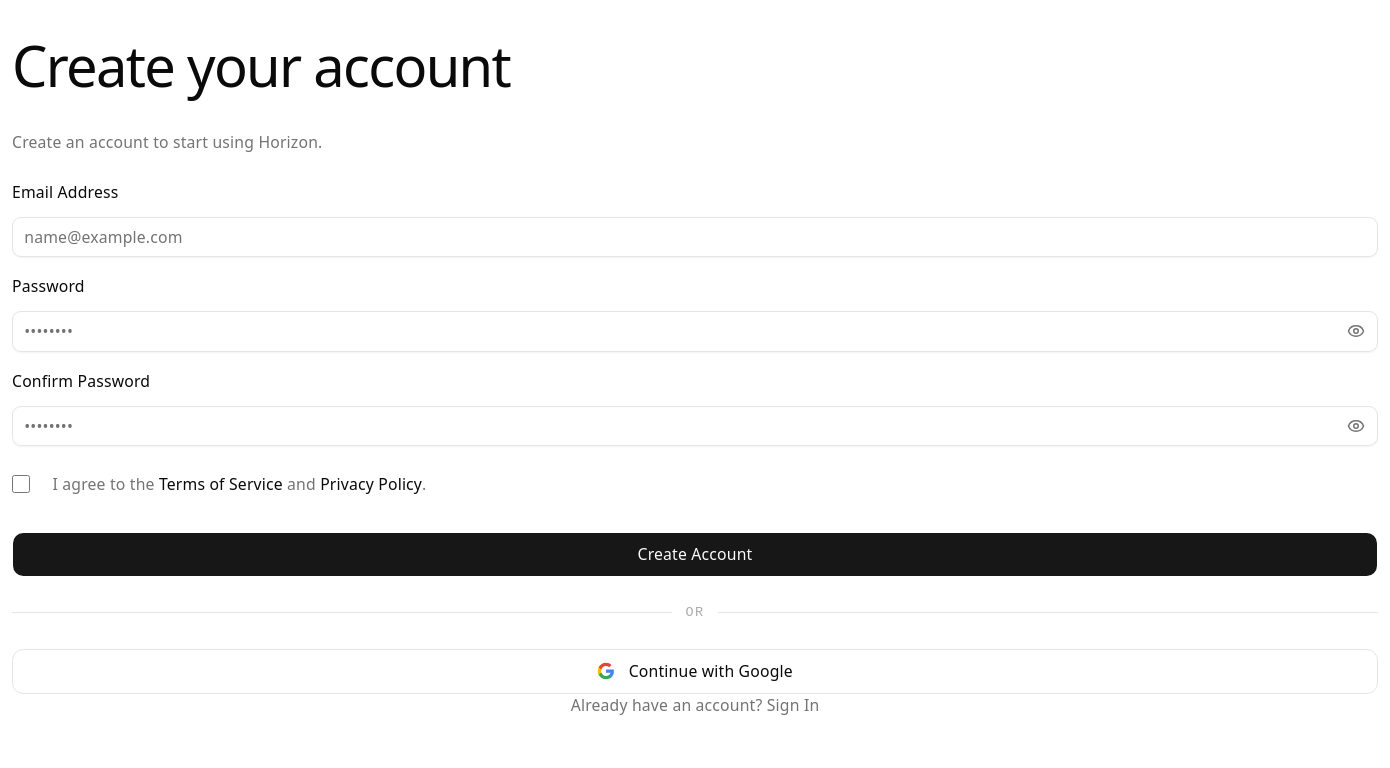
Test: RegisterForm › shows validation error when passwords do not match
Type "test@example.com" into the field with placeholder "name@example.com" at [695, 237], box x1=12 y1=217 x2=1378 y2=257
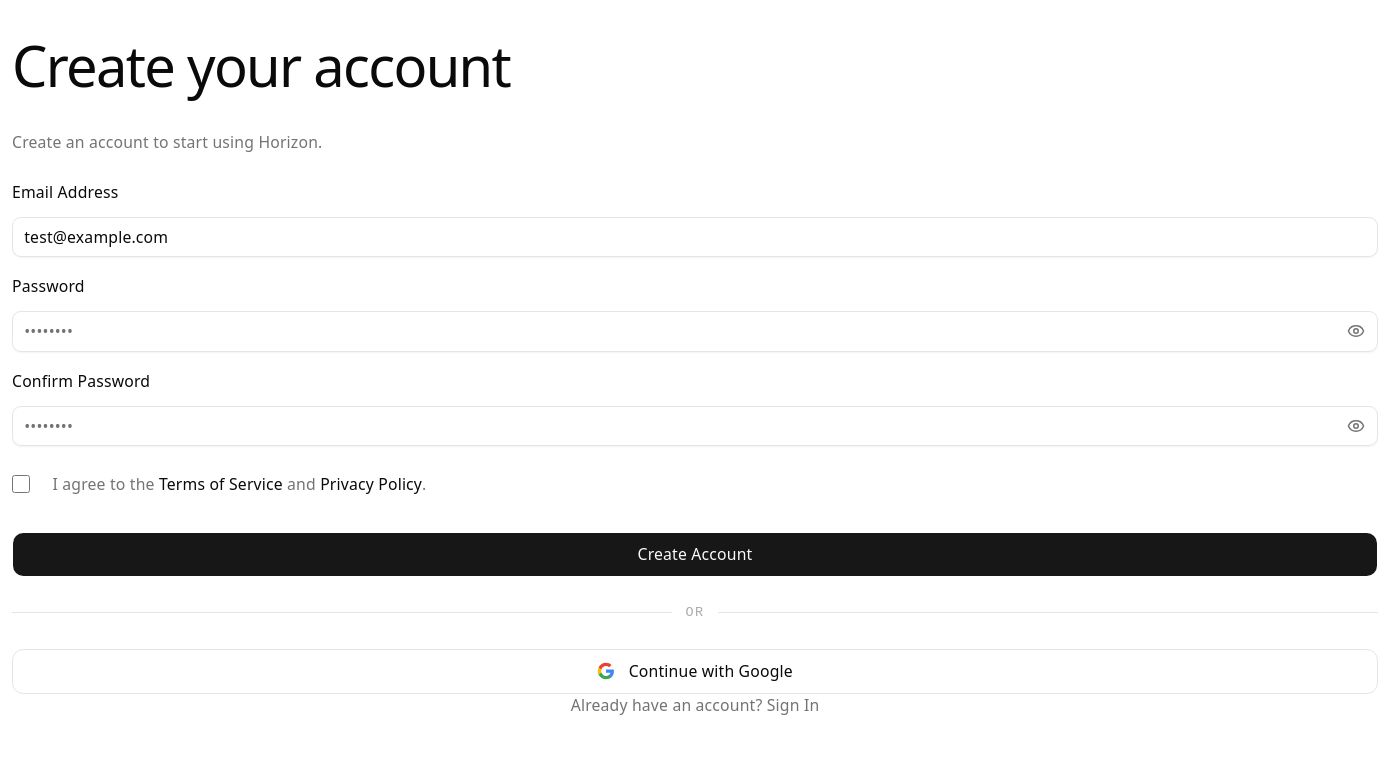
Type "strongPass123" into the password field with placeholder "••••••••" at [695, 331], box x1=12 y1=311 x2=1378 y2=352
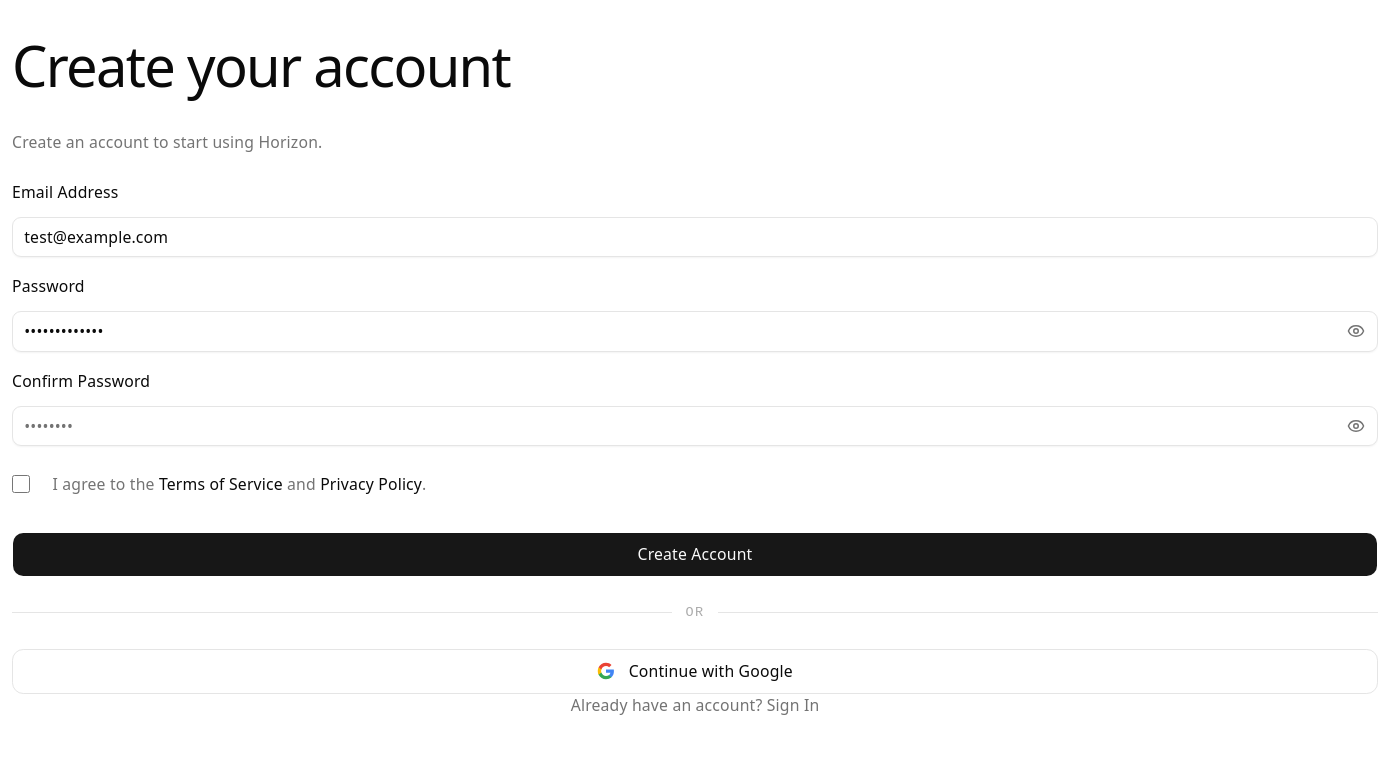
Type "differentPass123" into the password field with placeholder "••••••••" at [695, 426], box x1=12 y1=406 x2=1378 y2=446
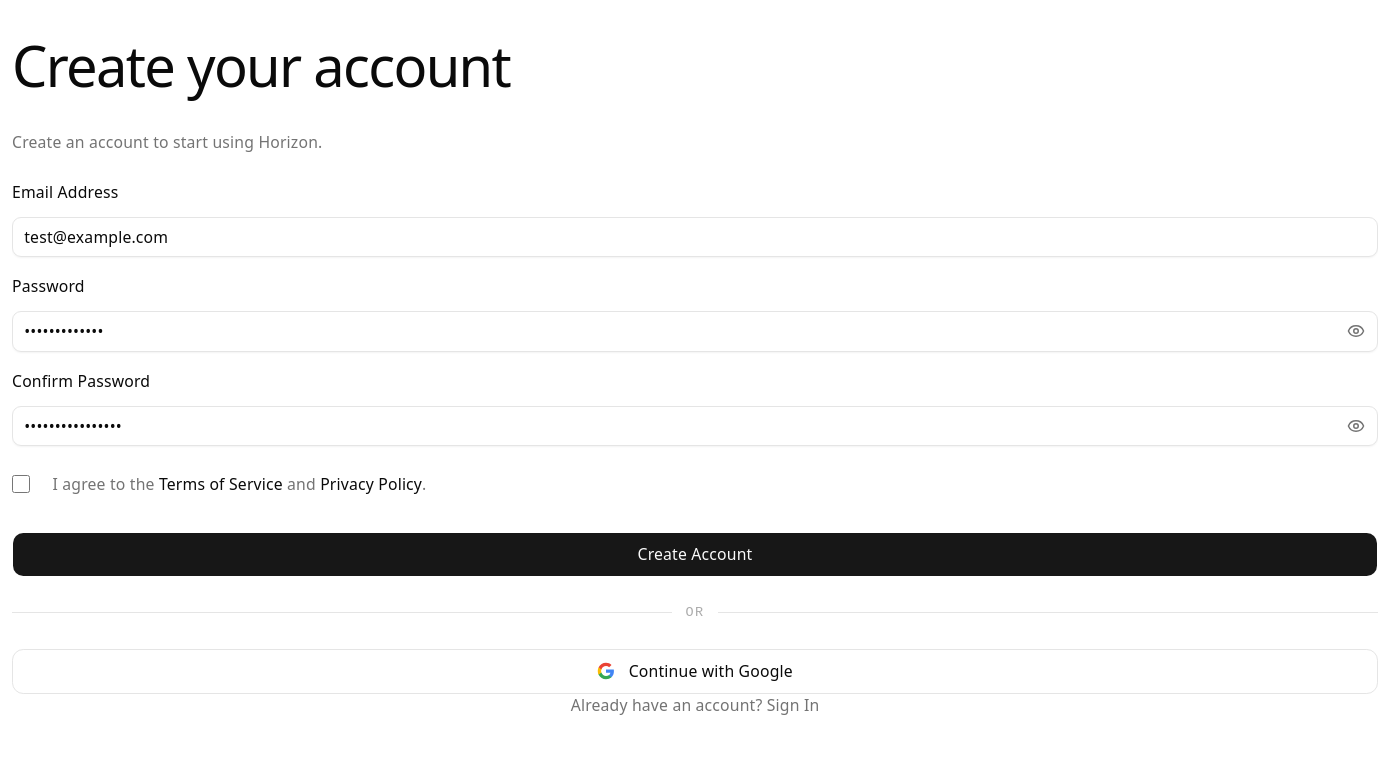
Click the checkbox at [21, 484], box x1=12 y1=475 x2=30 y2=493
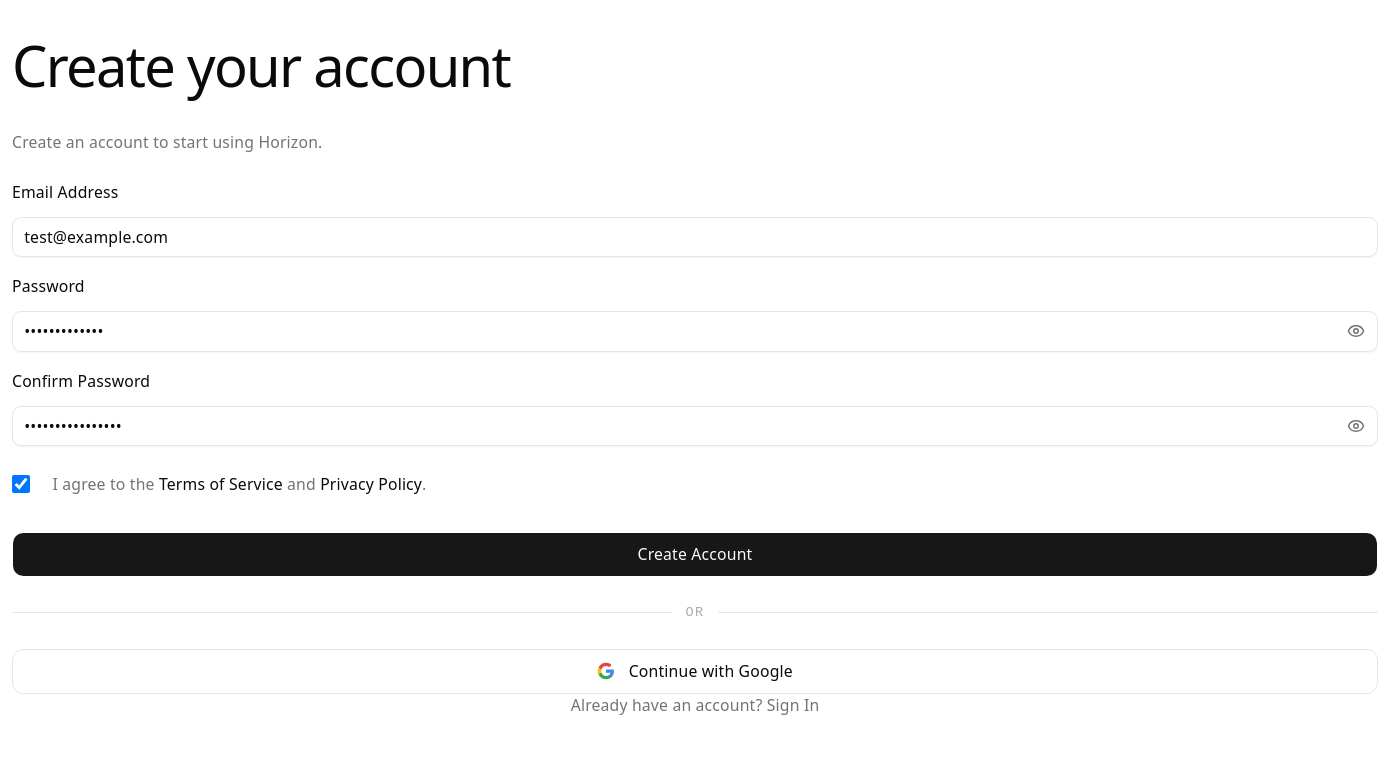
Submit the form from the button "Create Account", box x1=12 y1=532 x2=1378 y2=577
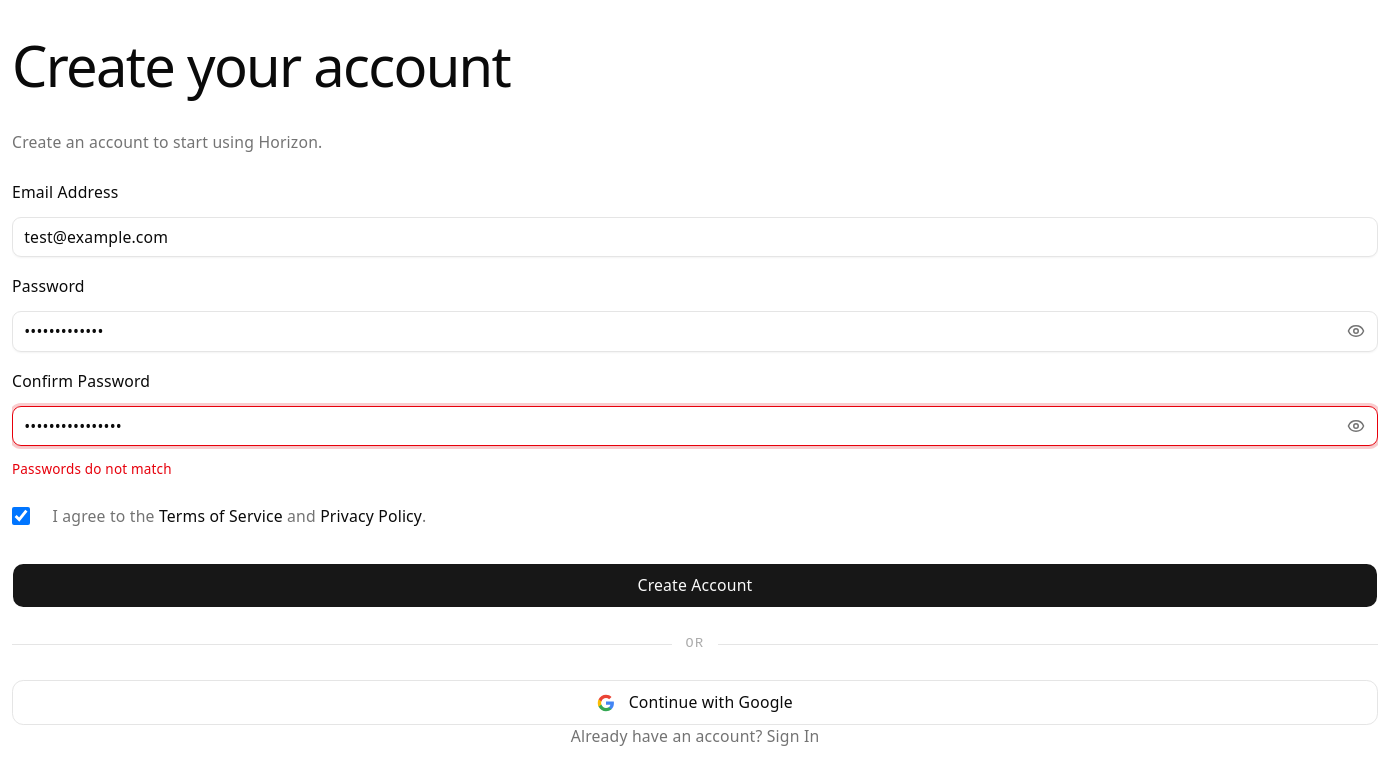
Expected: the text "Passwords do not match" is shown, x1=12 y1=460 x2=172 y2=478
